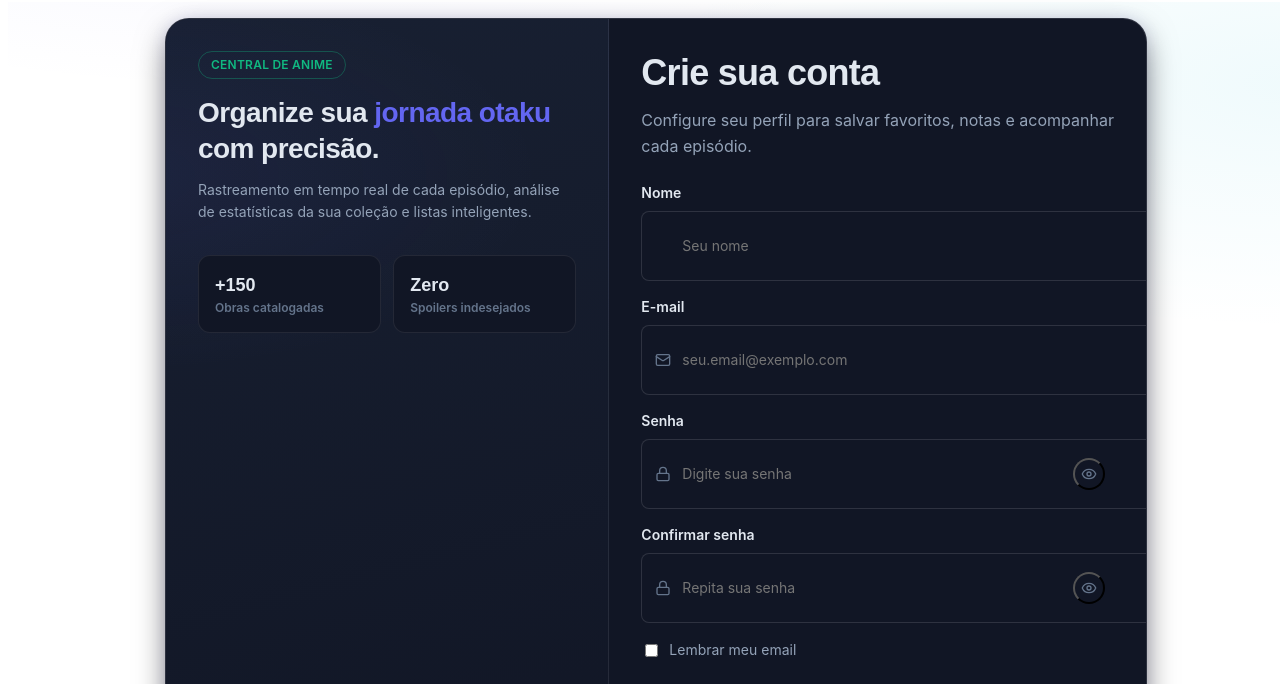
it: frontend authentication flows › bloqueia controles durante cadastro e apresenta erro seguro sem apagar os campos
Type "Pessoa" into the field with placeholder "Seu nome" at (919, 246), box [641,211,1196,281]
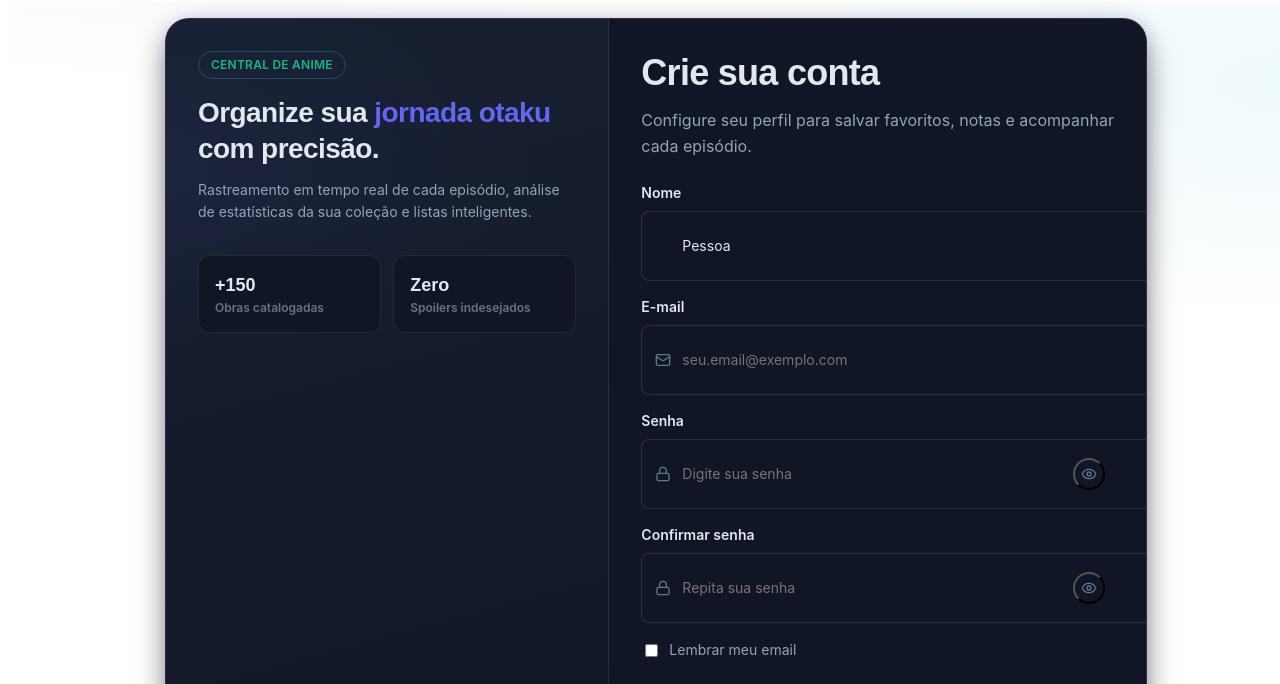
Type "pessoa@example.test" into the field with placeholder "seu.email@exemplo.com" at (919, 360), box [641,325,1196,395]
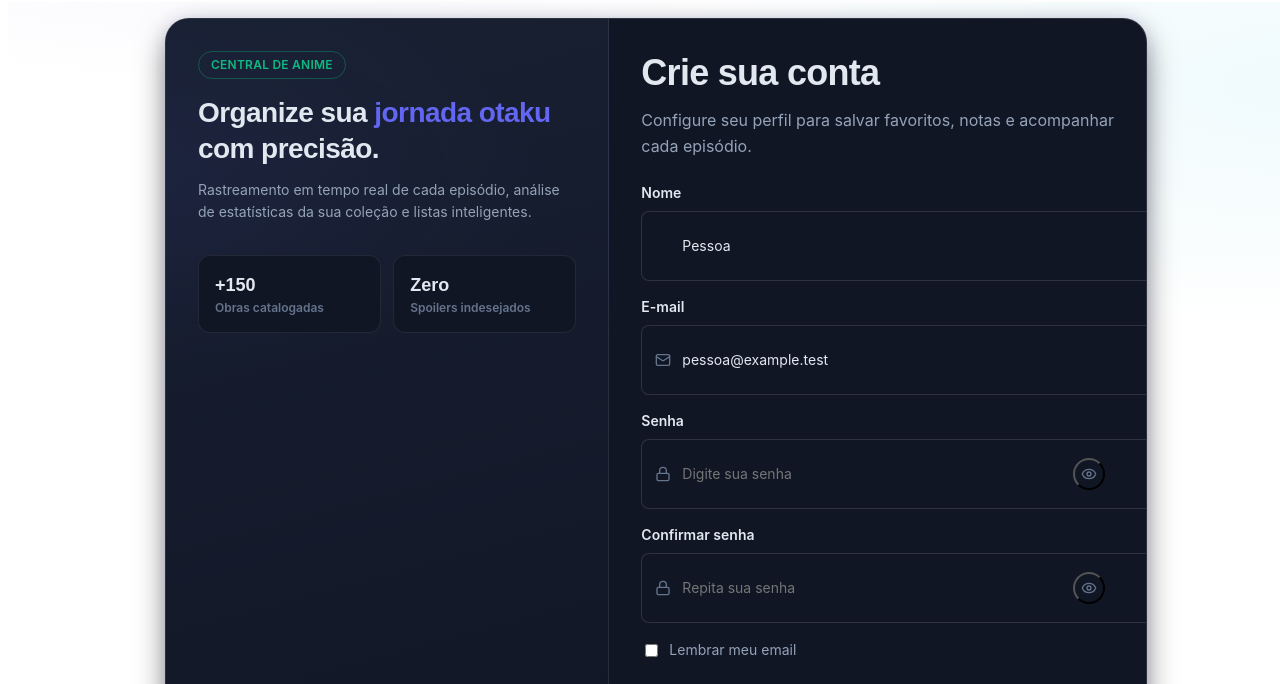
Type "senha-segura" into the password field with placeholder "Digite sua senha" at (919, 474), box [641,439,1196,509]
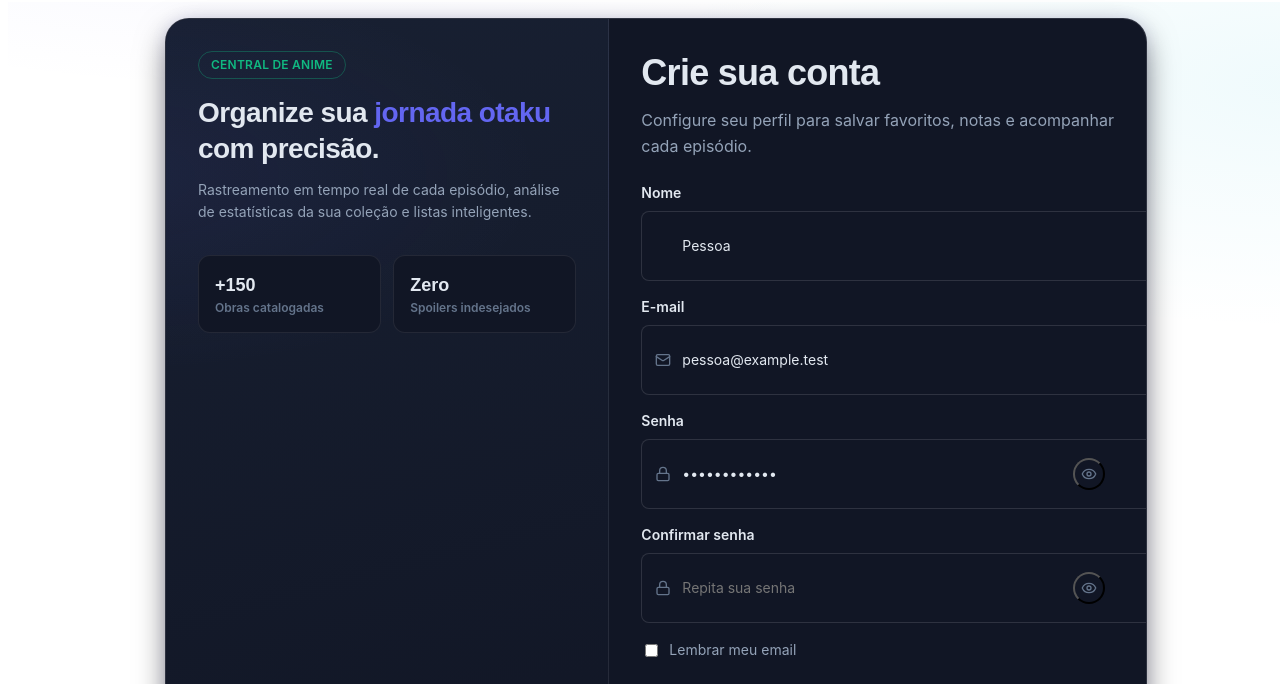
Type "senha-segura" into the password field with placeholder "Repita sua senha" at (919, 588), box [641,553,1196,623]
(page scrolled)
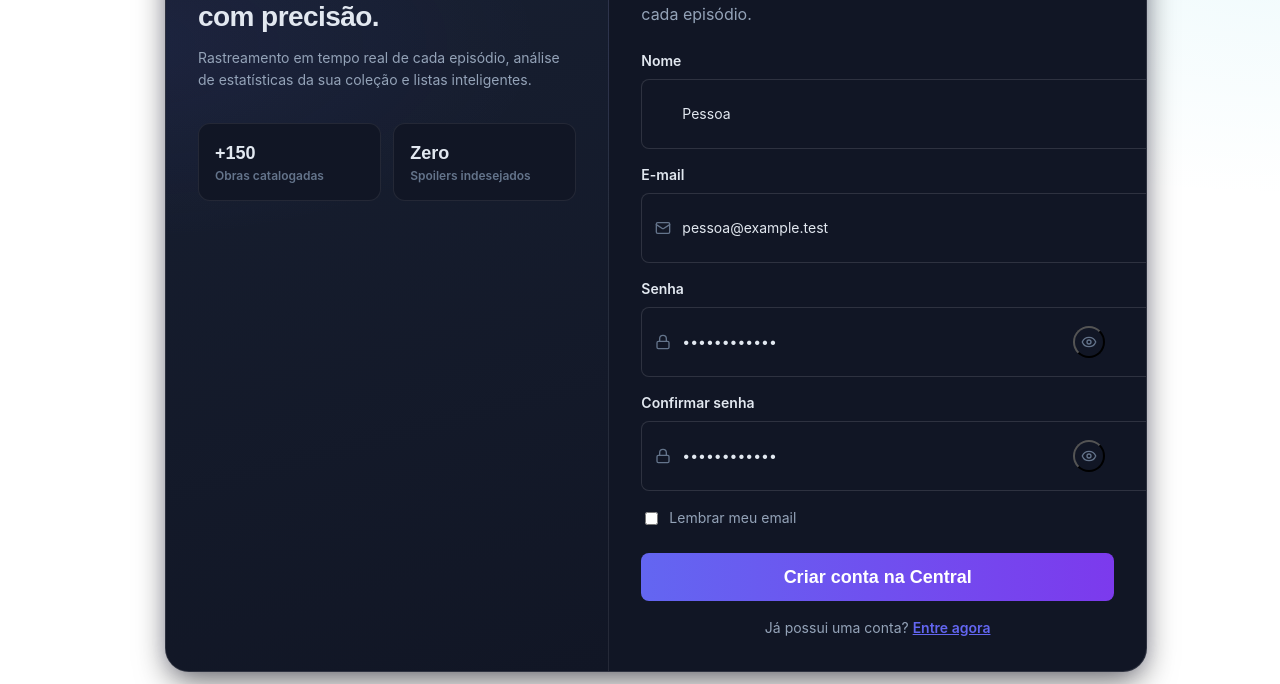
Click the button "Criar conta na Central" at (878, 577), box [641,553,1114,601]
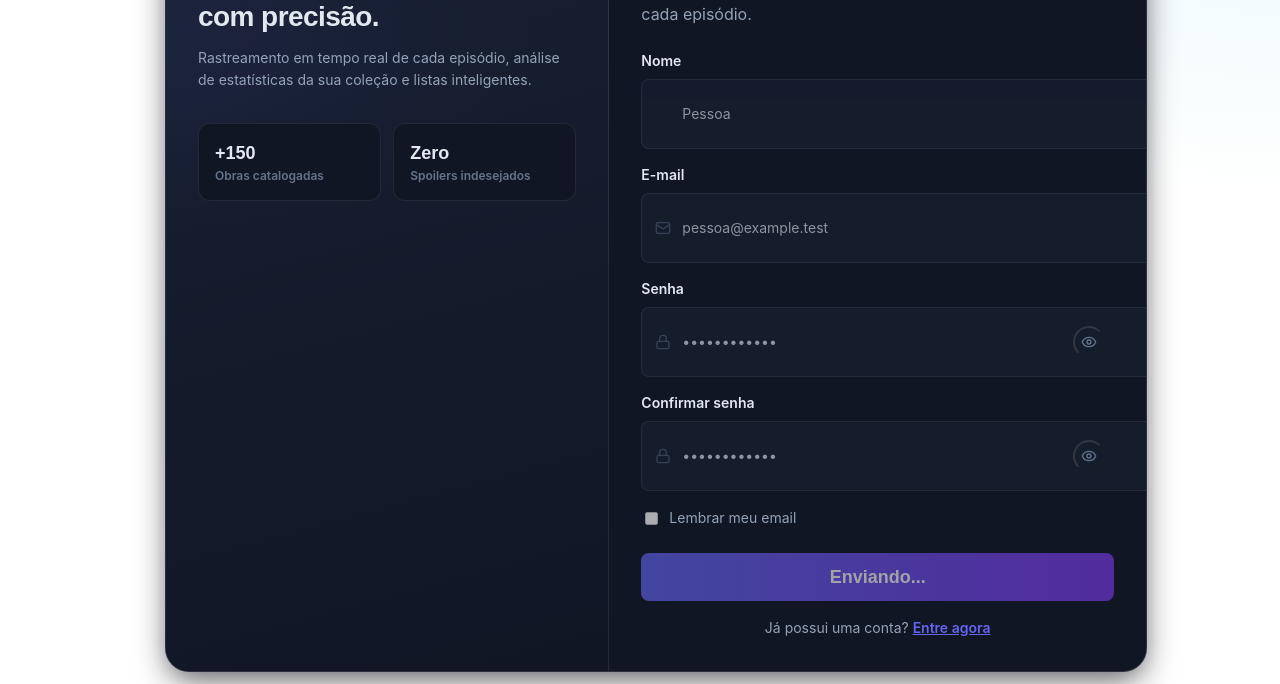
Result: the button "Enviando..." is disabled
Result: the field with placeholder "Seu nome" is disabled at [641,79,1147,149]
Click the button "Enviando..." at (878, 577), box [641,553,1114,601]
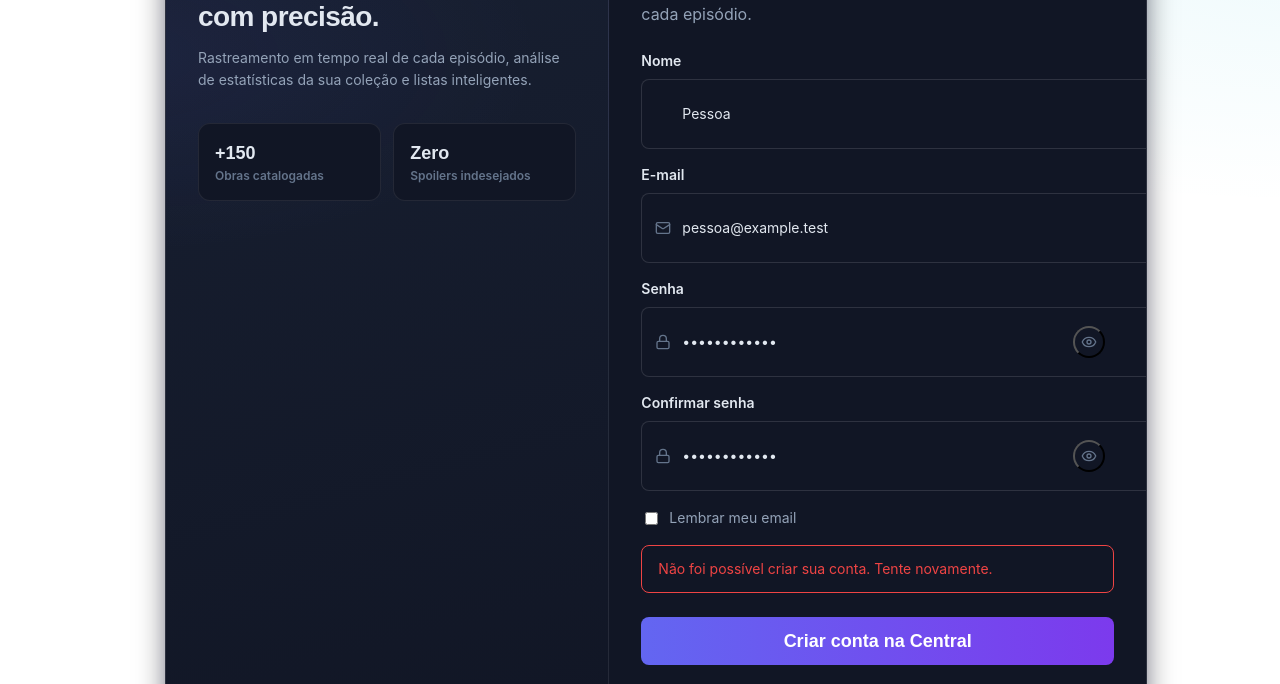
Result: the text "Não foi possível criar sua conta. Tente novamente." is shown at [641,545,1114,593]
Result: the button "Criar conta na Central" is enabled at [641,617,1114,665]
